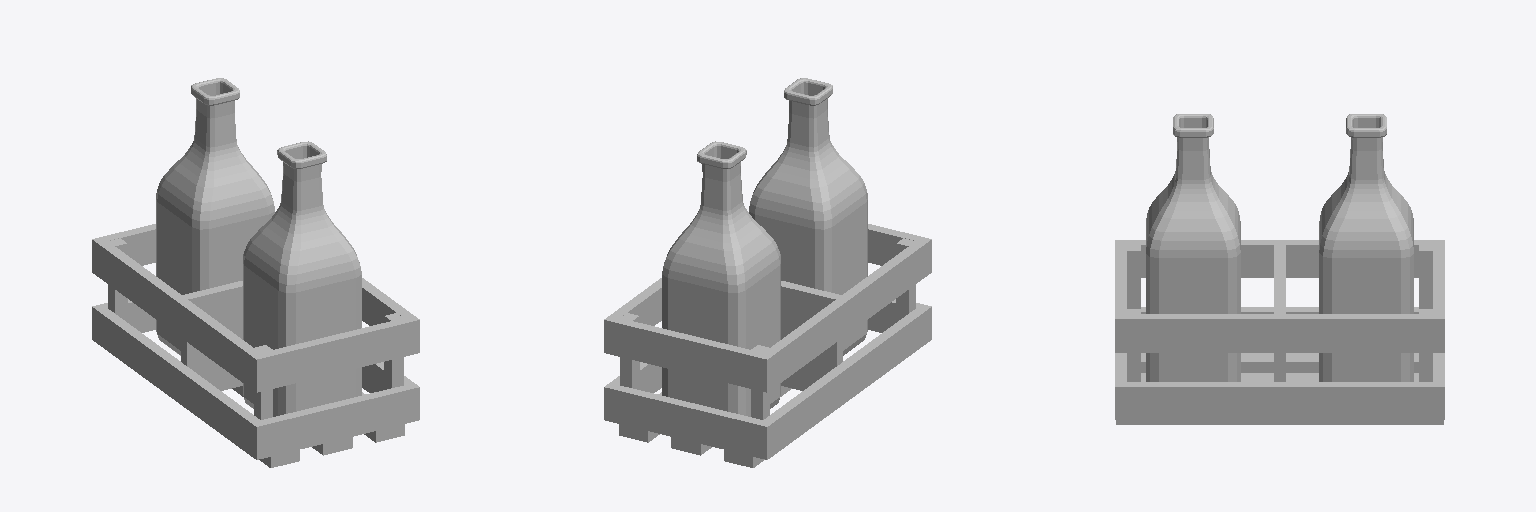
The model's file is Box of bottles.obj.
3 renders of one model, left to right at view 1: azimuth 30°, elevation 25°; view 2: azimuth 150°, elevation 25°; view 3: azimuth 270°, elevation 25°, orthographic.
Visible parts, largest first — view 1: bottles; view 2: bottles; view 3: bottles.
Part boxes in pixels (bbox=[...]): bottles: bbox=[92, 78, 419, 467]; bottles: bbox=[604, 78, 931, 467]; bottles: bbox=[1115, 114, 1444, 424].
Size of the model in its own units: 3.2 by 5.08 by 5.58.